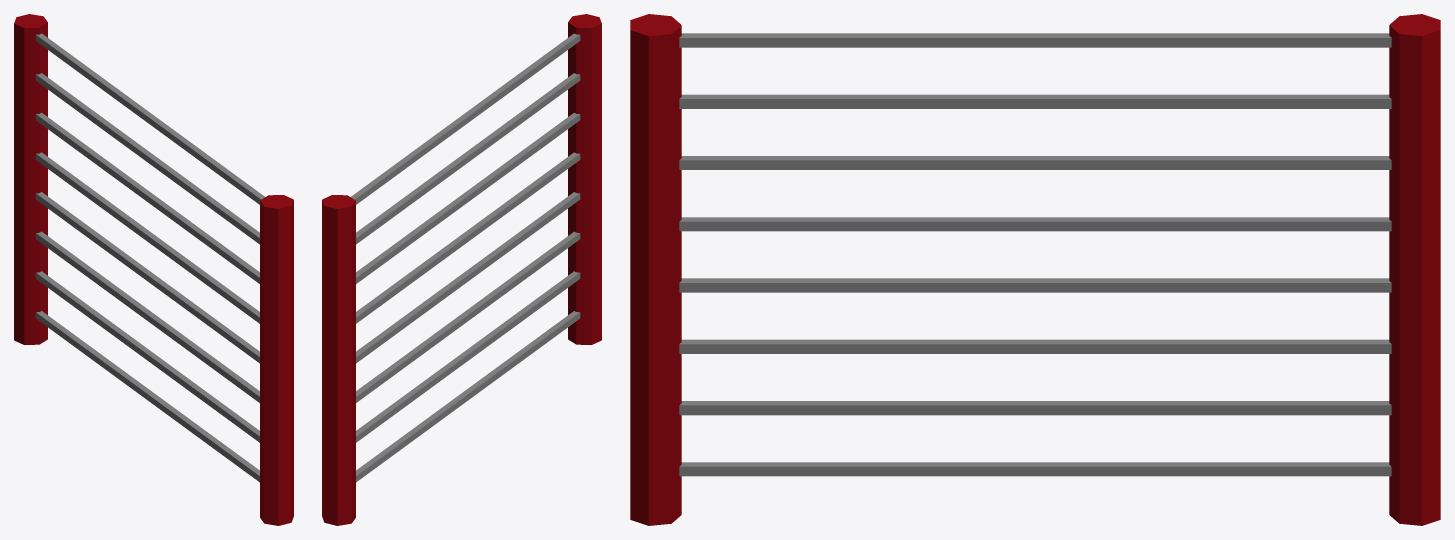
Rendered from ElectricFence.fbx.
The picture shows the model from 3 angles, left to right: view 1: azimuth 30°, elevation 25°; view 2: azimuth 150°, elevation 25°; view 3: azimuth 270°, elevation 25°; orthographic projection. The views are drawn at different scales.
Parts seen in each view (by area): view 1: Wire.002, Cylinder; view 2: Wire.002, Cylinder; view 3: Wire.002, Cylinder.
Boxes of the visible parts, box(x1,y1,x2,y2) form: Wire.002: box(35, 33, 264, 482); Cylinder: box(14, 14, 293, 525); Wire.002: box(351, 33, 580, 482); Cylinder: box(322, 14, 601, 525); Wire.002: box(679, 33, 1391, 476); Cylinder: box(630, 14, 1440, 525).
Bounding box in the file's own units: 19.5 × 200 × 300.
